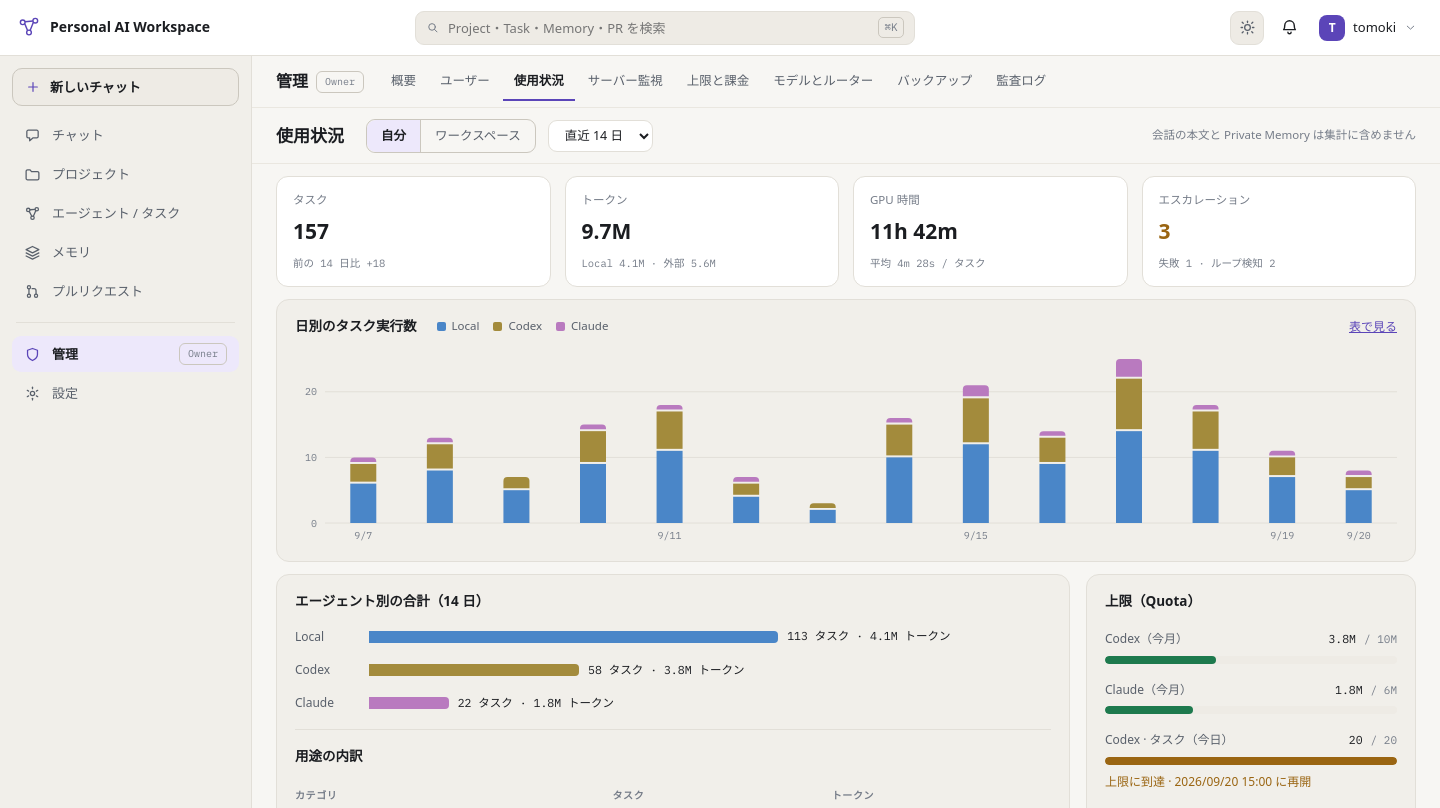
Test: 使用状況 › shows the same numbers as a table (表で見る)
Expected: the text "157" is shown, [293,217,329,245]
What coordinates should you click on to do the following:
click the button "表で見る"
I would click on:
 (1373, 327)
Its box is [1349,317,1397,336].
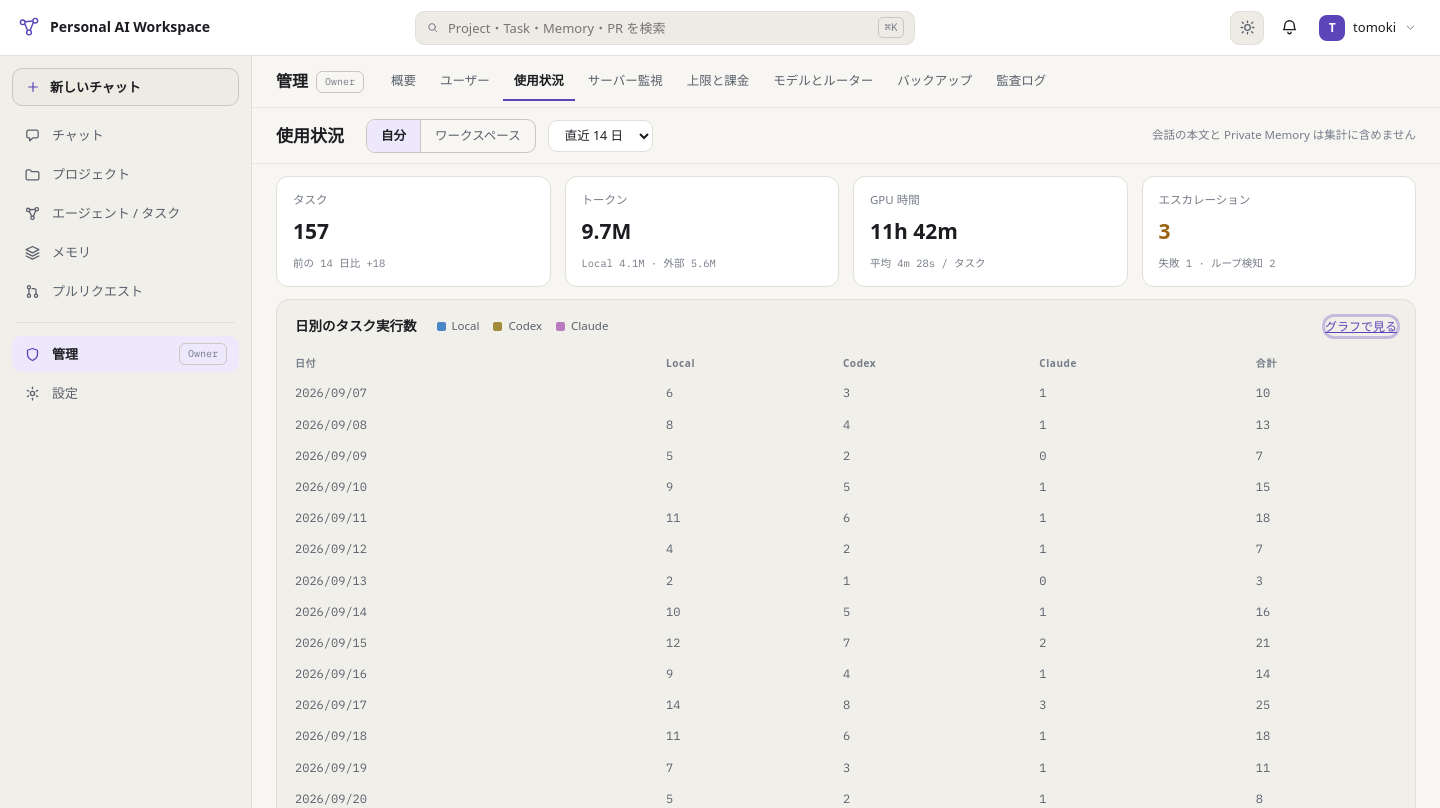
Expected: the column heading "2026/09/07" is shown, [295,377,666,409]
Expected: the cells read "6", "3", "1", "10", in this order, [666,377,843,409]; [843,377,1039,409]; [1039,377,1256,409]; [1256,377,1397,409]
